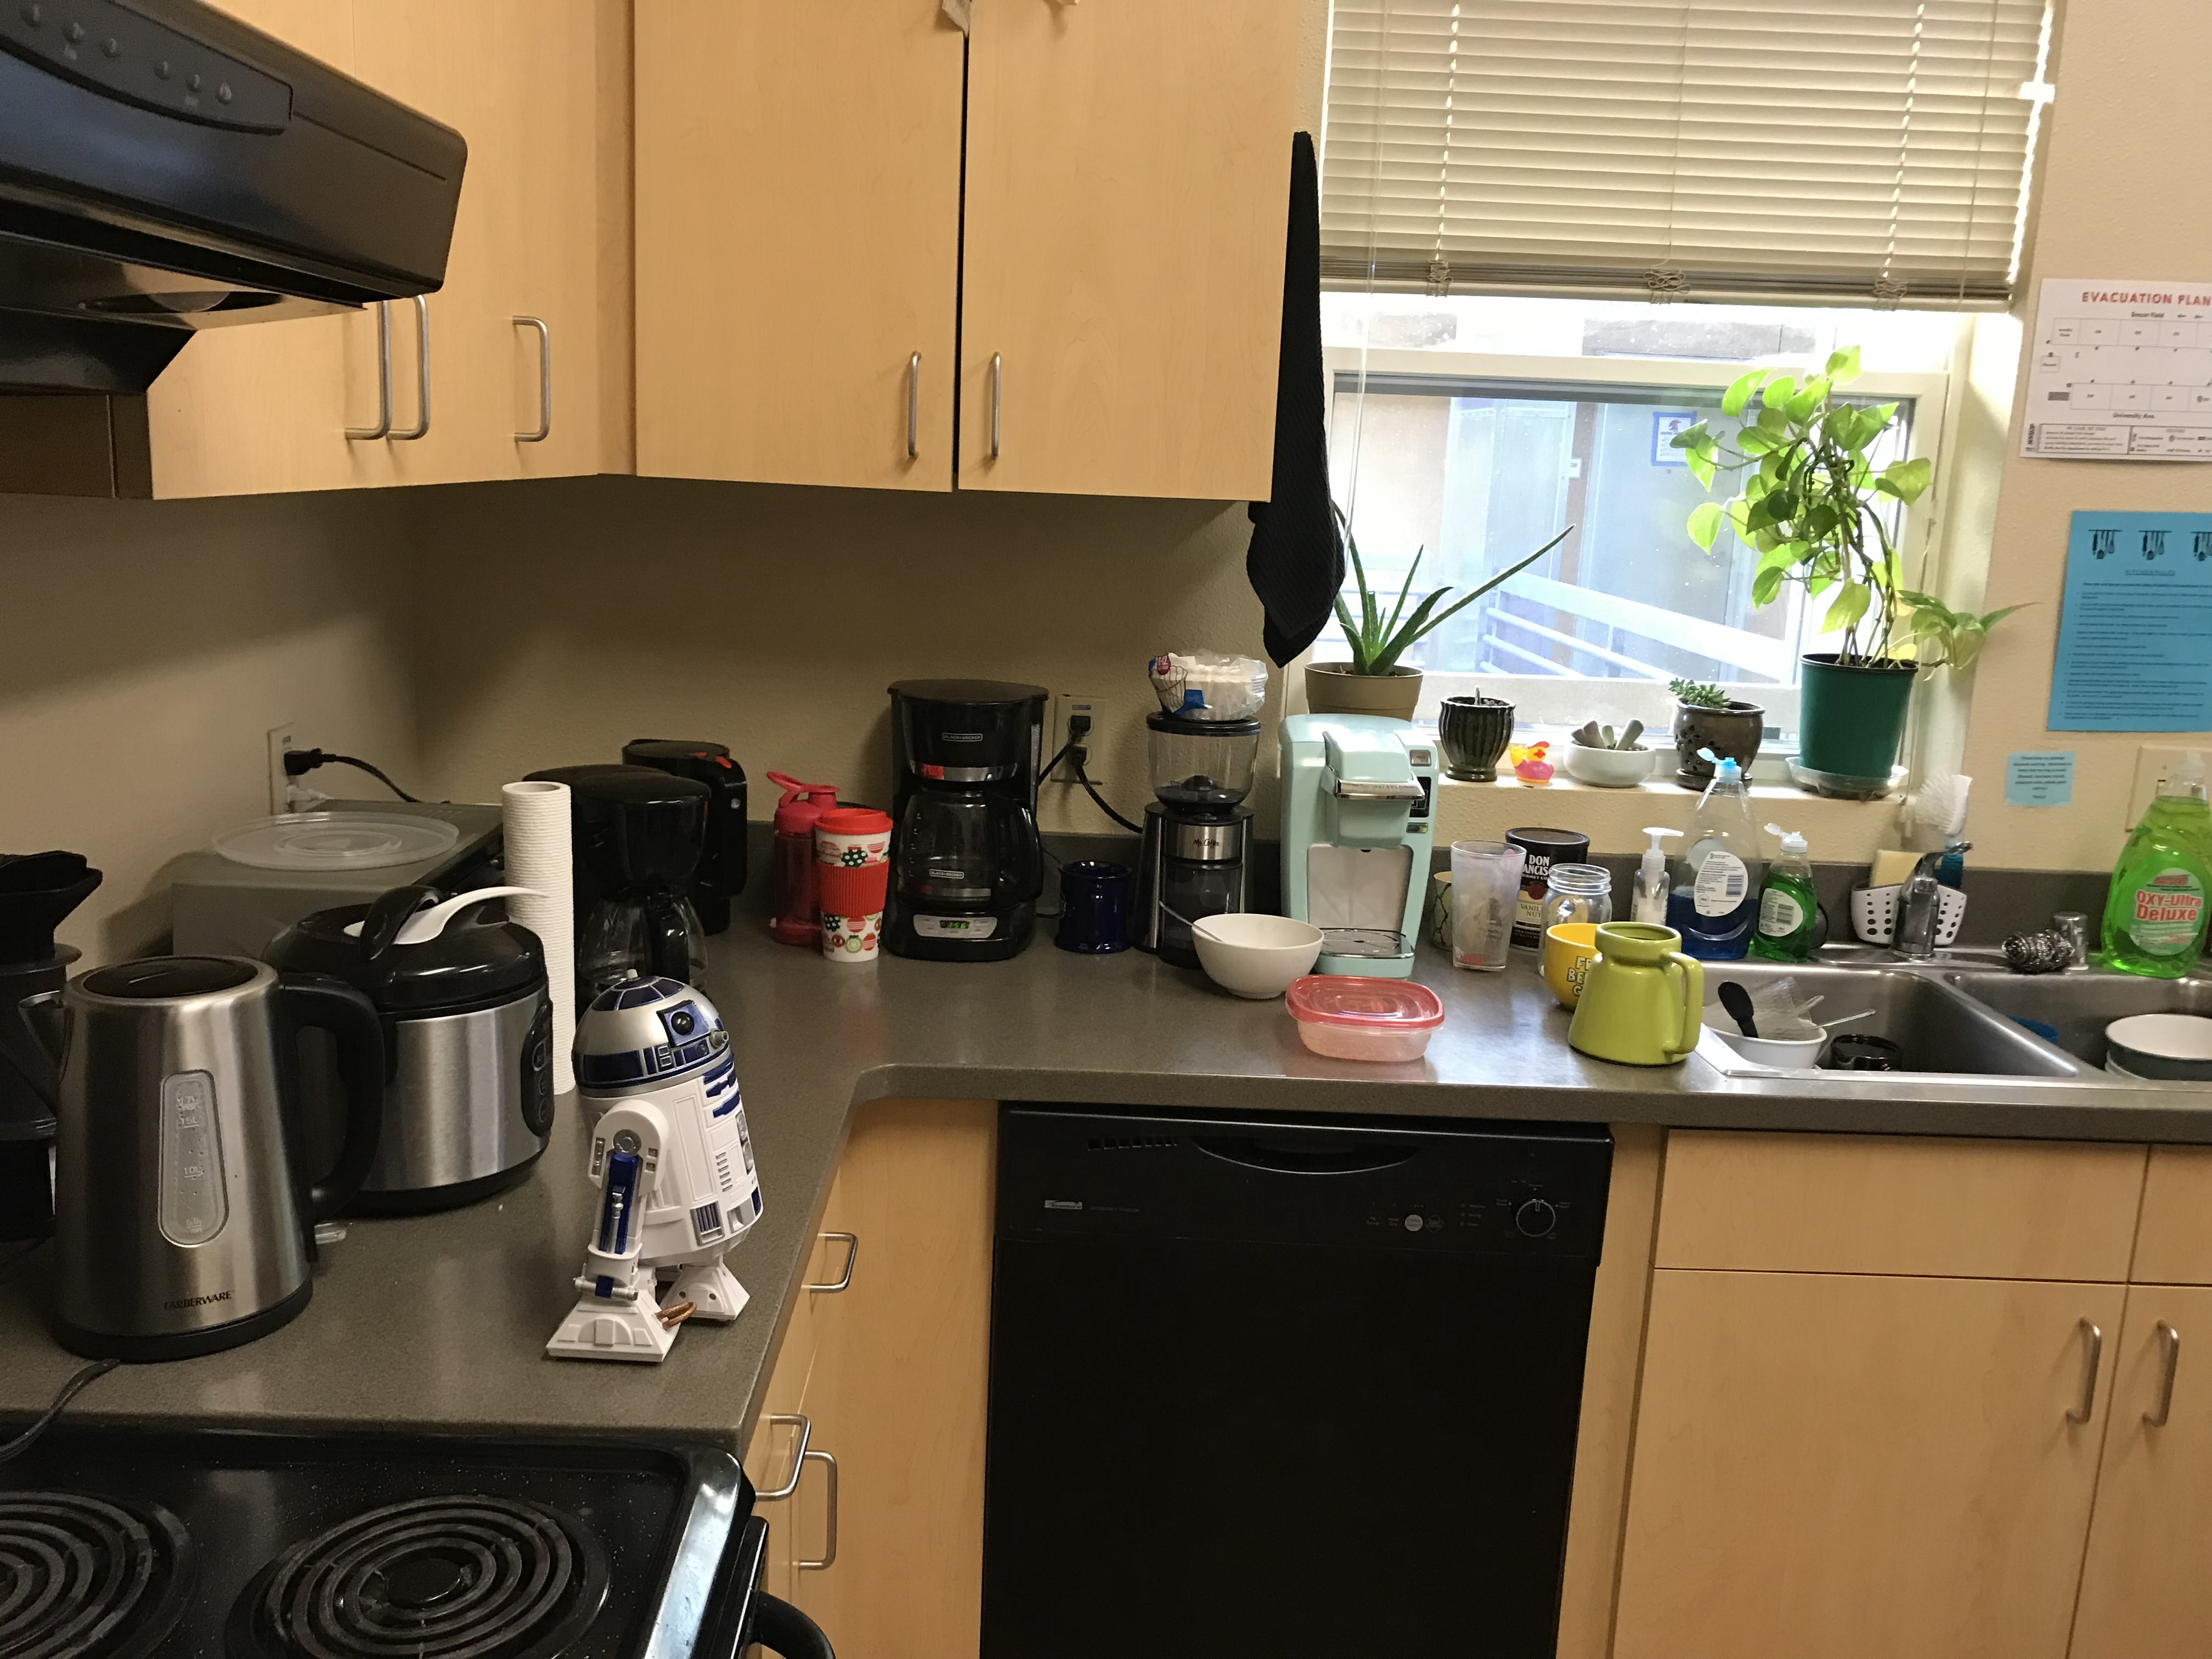r2d2: (552, 969, 765, 1364)
